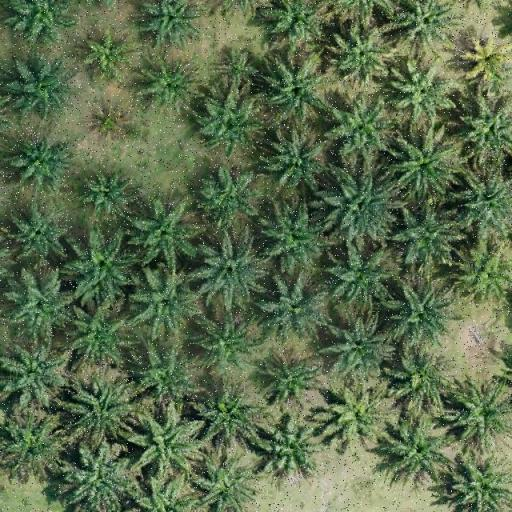Ganoderma: (468, 43, 505, 80), (94, 109, 126, 138)
